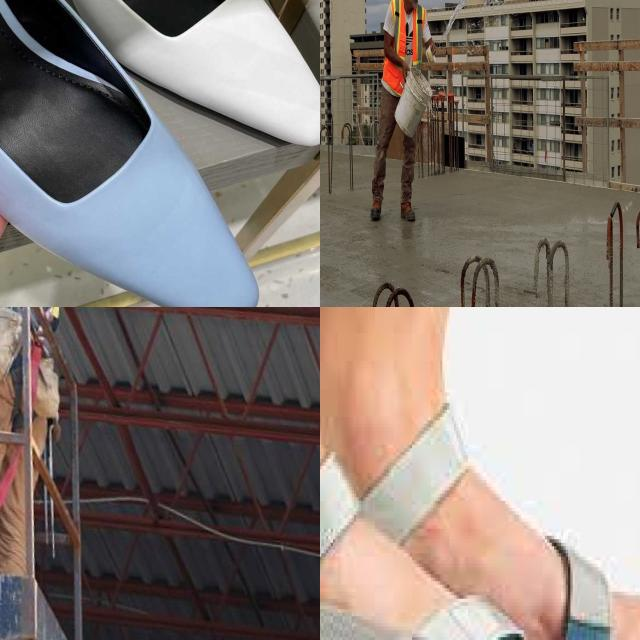Sandals: (0, 0, 286, 307), (320, 406, 631, 640), (0, 0, 320, 174)
boots: (401, 193, 417, 228), (373, 197, 383, 222)
person: (370, 0, 434, 228)
vest: (381, 0, 425, 97)
